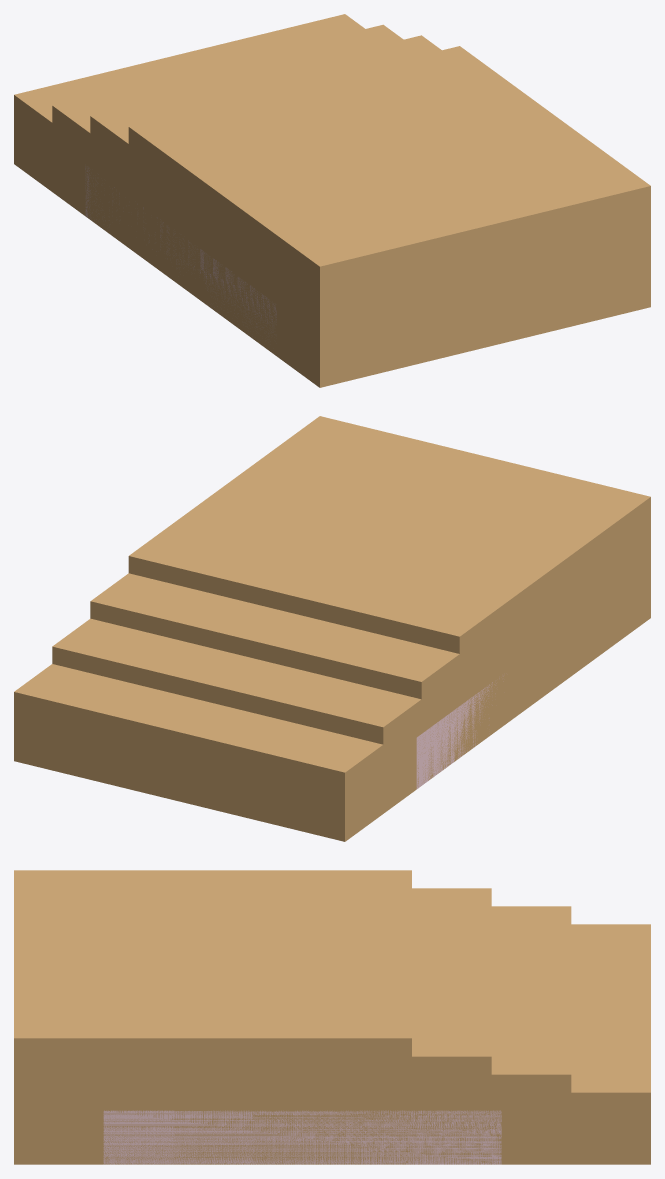
The model's file is board.glb.
The picture shows the model from 3 angles, top to bottom: view 1: azimuth 30°, elevation 25°; view 2: azimuth 150°, elevation 25°; view 3: azimuth 270°, elevation 25°; orthographic projection. The views are drawn at different scales.
Visible parts, largest first — view 1: Substrate_Layer_8, Substrate_Layer_7, Substrate_Layer_6, Substrate_Layer_5, Substrate_Layer_4, Substrate_Layer_0; view 2: Substrate_Layer_8, Substrate_Layer_5, Substrate_Layer_7, Substrate_Layer_6, Substrate_Layer_0, Substrate_Layer_4; view 3: Substrate_Layer_8, Substrate_Layer_5, Substrate_Layer_6, Substrate_Layer_7, Substrate_Layer_0, Substrate_Layer_4.
Boxes of the visible parts, x1=… form: Substrate_Layer_8: x1=128, y1=46, x2=650, y2=387; Substrate_Layer_7: x1=90, y1=35, x2=441, y2=359; Substrate_Layer_6: x1=52, y1=24, x2=403, y2=331; Substrate_Layer_5: x1=14, y1=14, x2=364, y2=303; Substrate_Layer_4: x1=253, y1=120, x2=526, y2=191; Substrate_Layer_0: x1=85, y1=166, x2=276, y2=336; Substrate_Layer_8: x1=128, y1=416, x2=650, y2=672; Substrate_Layer_5: x1=14, y1=633, x2=536, y2=841; Substrate_Layer_7: x1=90, y1=542, x2=612, y2=766; Substrate_Layer_6: x1=52, y1=618, x2=485, y2=805; Substrate_Layer_0: x1=416, y1=676, x2=503, y2=788; Substrate_Layer_4: x1=253, y1=490, x2=526, y2=561; Substrate_Layer_8: x1=14, y1=870, x2=411, y2=1164; Substrate_Layer_5: x1=253, y1=924, x2=650, y2=1164; Substrate_Layer_6: x1=173, y1=906, x2=571, y2=1164; Substrate_Layer_7: x1=93, y1=888, x2=491, y2=1164; Substrate_Layer_0: x1=103, y1=1110, x2=501, y2=1164; Substrate_Layer_4: x1=203, y1=887, x2=222, y2=1021.
Size of the model in its own units: 0.0001 by 3.5e-05 by 0.00016.
